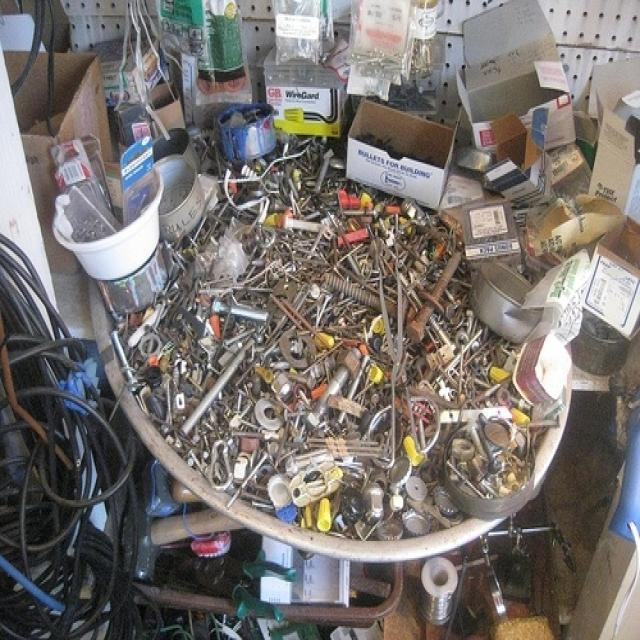Metal: (164, 168, 534, 534)
